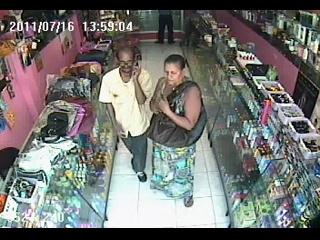Normal: (148, 53, 208, 207), (98, 46, 154, 184), (154, 10, 176, 44), (75, 50, 109, 65)
